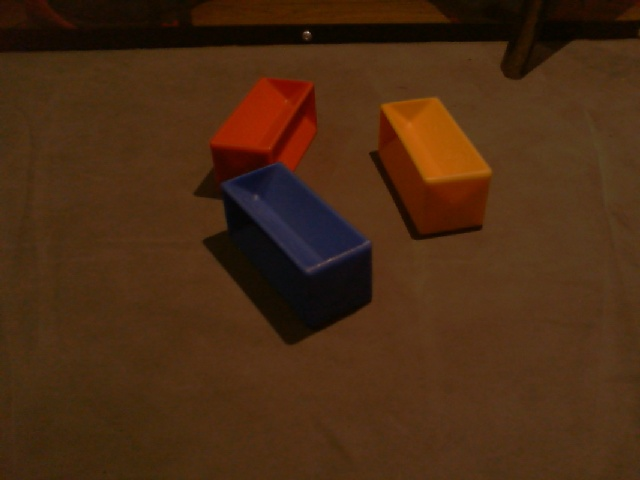BlueSample: (220, 162, 375, 326)
RedSample: (212, 76, 317, 185)
YellowSample: (374, 91, 494, 243)
